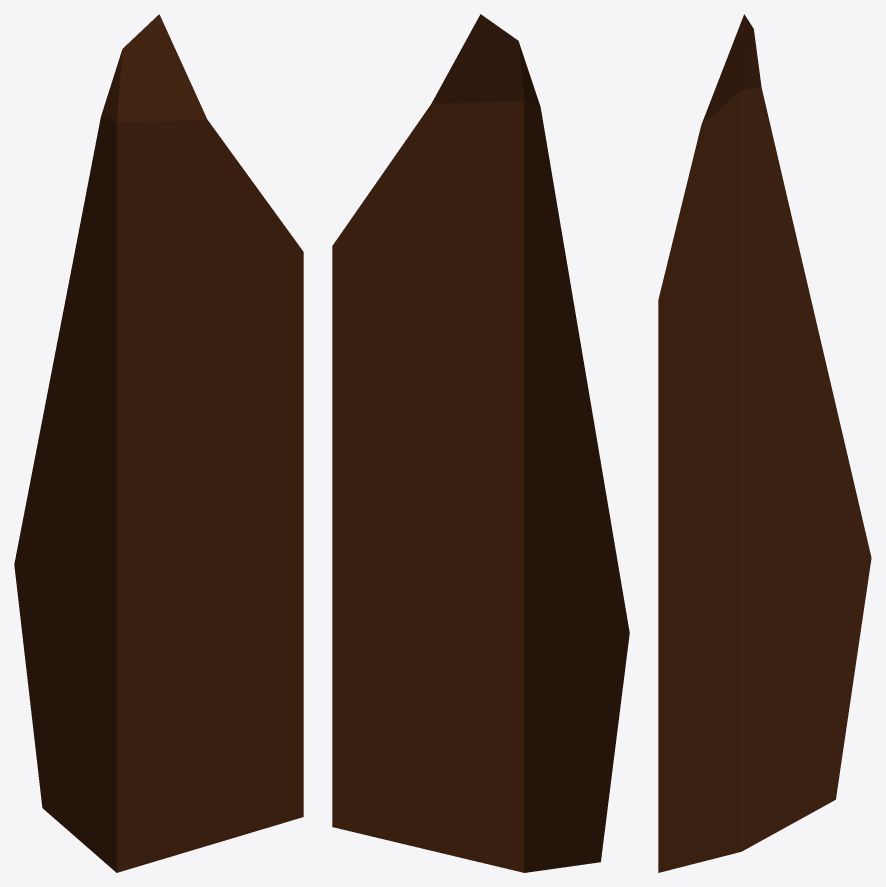
The model's file is Butelka_c.fbx.
3 renders of one model, left to right at view 1: azimuth 30°, elevation 25°; view 2: azimuth 210°, elevation 25°; view 3: azimuth 270°, elevation 25°, orthographic. The views are drawn at different scales.
Parts seen in each view (by area): view 1: Piwo_rozwalone; view 2: Piwo_rozwalone; view 3: Piwo_rozwalone.
Part boxes in pixels (box(x1,y1,x2,y2)): Piwo_rozwalone: box(14, 14, 303, 872); Piwo_rozwalone: box(332, 14, 629, 872); Piwo_rozwalone: box(658, 14, 871, 872).
Bounding box in the file's own units: 8.51 × 37.36 × 8.4.
